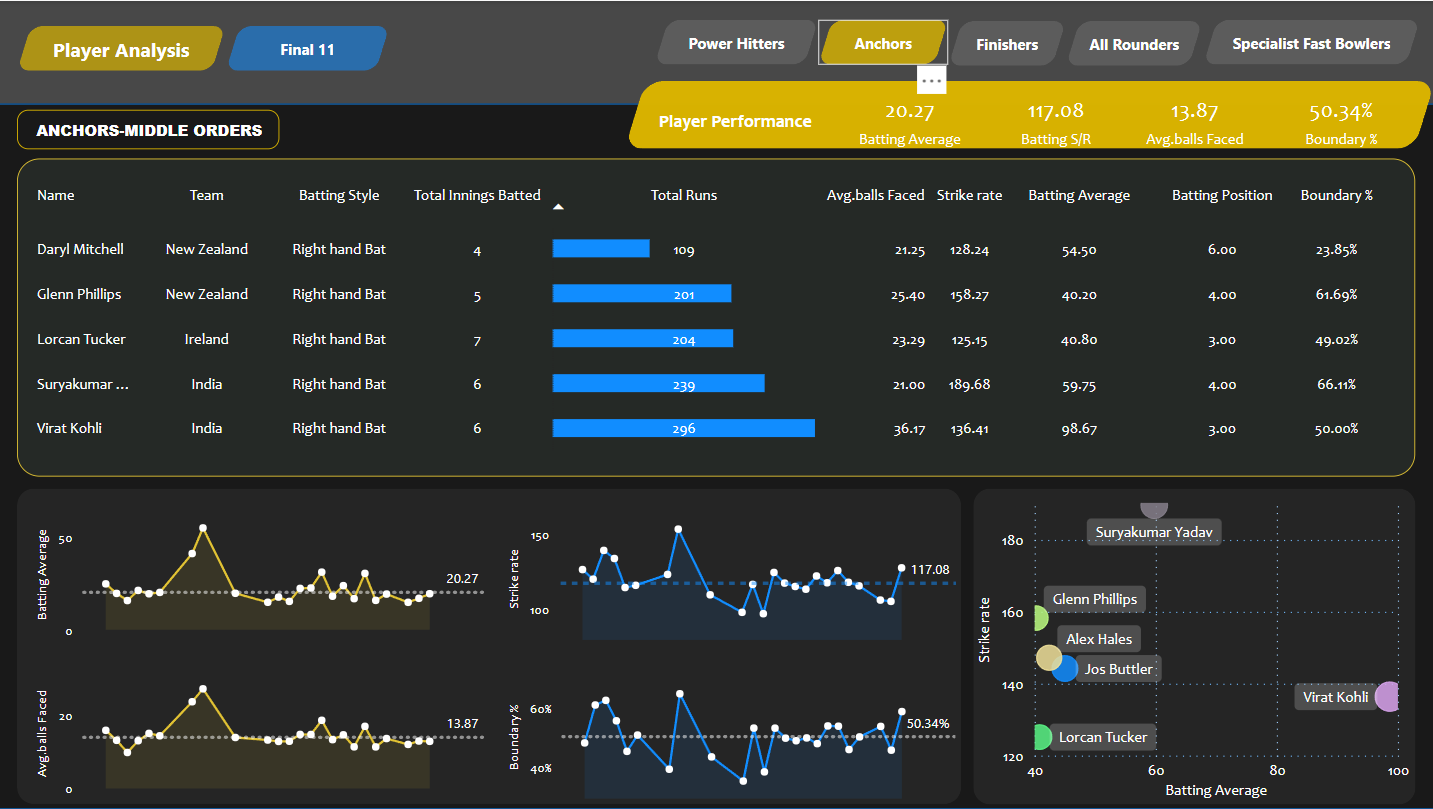

What the dashboard file says about the page in this screenshot:
{"tool":"powerbi","page":{"name":"All Rounders List","canvas":[1280,720],"ordinal":3},"visuals":[{"type":"shape","box":[0,91.7,1279.6,628.3],"z":0},{"type":"shape","box":[558.5,71.4,721.8,60.4],"z":1000},{"type":"card","fields":{"Values":["Key Measure.Batting Average"]},"box":[747.9,74.1,130.4,61.7],"z":2000},{"type":"card","fields":{"Values":["Key Measure.Strike rate"]},"box":[878.2,71.4,130.4,68.6],"z":3000},{"type":"card","fields":{"Values":["Key Measure.Avg.balls Faced"]},"box":[1001.7,71.4,130.4,68.6],"z":4000},{"type":"card","fields":{"Values":["Key Measure.Boundary %"]},"box":[1132.1,71.4,130.4,68.6],"z":5000},{"type":"textbox","box":[584.6,91.9,163.3,39.8],"z":6000},{"type":"textbox","box":[18.1,96.5,159.2,35],"z":7000},{"type":"shape","box":[868.6,433.6,393.8,281.3],"z":8000},{"type":"shape","box":[18.1,434.2,840.6,281],"z":9000},{"type":"areaChart","fields":{"Y":["Key Measure.Batting Average"],"Category":["Match_summary.matchDate.Variation.Date Hierarchy.Day"]},"box":[30.2,447.4,408.8,126.6],"z":10000},{"type":"areaChart","fields":{"Y":["Key Measure.Strike rate"],"Category":["Match_summary.matchDate.Variation.Date Hierarchy.Day"]},"box":[449.8,447.4,408.8,126.6],"z":11000},{"type":"areaChart","fields":{"Category":["Match_summary.matchDate.Variation.Date Hierarchy.Day"],"Y":["Key Measure.Avg.balls Faced"]},"box":[30.2,588.5,408.8,126.6],"z":12000},{"type":"areaChart","fields":{"Y":["Key Measure.Boundary %"],"Category":["Match_summary.matchDate.Variation.Date Hierarchy.Day"]},"box":[449.8,588.5,408.8,126.6],"z":13000},{"type":"actionButton","box":[584.9,16.9,145.9,39.8],"z":14000},{"type":"actionButton","box":[730.9,16.9,115.8,39.8],"z":15000},{"type":"actionButton","box":[846.6,18.1,104.9,39.8],"z":16000},{"type":"actionButton","box":[951.6,18.1,121.8,39.8],"z":17000},{"type":"actionButton","box":[1073.4,16.9,193,39.8],"z":18000},{"type":"actionButton","box":[203.8,21.7,145.9,39.8],"z":19000},{"type":"actionButton","box":[18.1,21.7,185.7,39.8],"z":20000},{"type":"tableEx","fields":{"Values":["Players_Summary.name","Players_Summary.team","Players_Summary.battingStyle","Players_Summary.bowlingStyle","Key Measure.Total Innings Batted","Key Measure.Total Runs","Key Measure.Total Innings Bowled","Key Measure.Batting Position","Key Measure.Strike rate","Key Measure.Batting Average","Key Measure.Wickets","Key Measure.Bowling Economy"]},"box":[18.1,139.9,1242.2,282.2],"z":21000},{"type":"scatterChart","fields":{"Category":["Players_Summary.name"],"X":["Key Measure.Bowling Strike Rate"],"Y":["Key Measure.Bowling Economy"],"Series":["Players_Summary.name"],"Size":["Key Measure.Total Runs"]},"box":[868.3,436.6,392,278.6],"z":22000}]}

Visuals, with their boxes in screenshot pixels (x1, y1, x2, y2), scaled from the page's 1280x720 canvas onto the 1433x809 screenshot:
shape: 0:103:1432:808
shape: 625:80:1432:148
card - Key Measure.Batting Average: 837:83:983:153
card - Key Measure.Strike rate: 983:80:1129:157
card - Key Measure.Avg.balls Faced: 1121:80:1267:157
card - Key Measure.Boundary %: 1267:80:1413:157
textbox: 654:103:837:148
textbox: 20:108:198:148
shape: 972:487:1413:803
shape: 20:488:961:804
areaChart - Key Measure.Batting Average x Match_summary.matchDate.Variation.Date Hierarchy.Day: 34:503:491:645
areaChart - Key Measure.Strike rate x Match_summary.matchDate.Variation.Date Hierarchy.Day: 504:503:961:645
areaChart - Match_summary.matchDate.Variation.Date Hierarchy.Day x Key Measure.Avg.balls Faced: 34:661:491:803
areaChart - Key Measure.Boundary % x Match_summary.matchDate.Variation.Date Hierarchy.Day: 504:661:961:803
actionButton: 655:19:818:64
actionButton: 818:19:948:64
actionButton: 948:20:1065:65
actionButton: 1065:20:1202:65
actionButton: 1202:19:1418:64
actionButton: 228:24:392:69
actionButton: 20:24:228:69
tableEx - Players_Summary.name x Players_Summary.team: 20:157:1411:474
scatterChart - Players_Summary.name x Key Measure.Bowling Strike Rate: 972:491:1411:804
